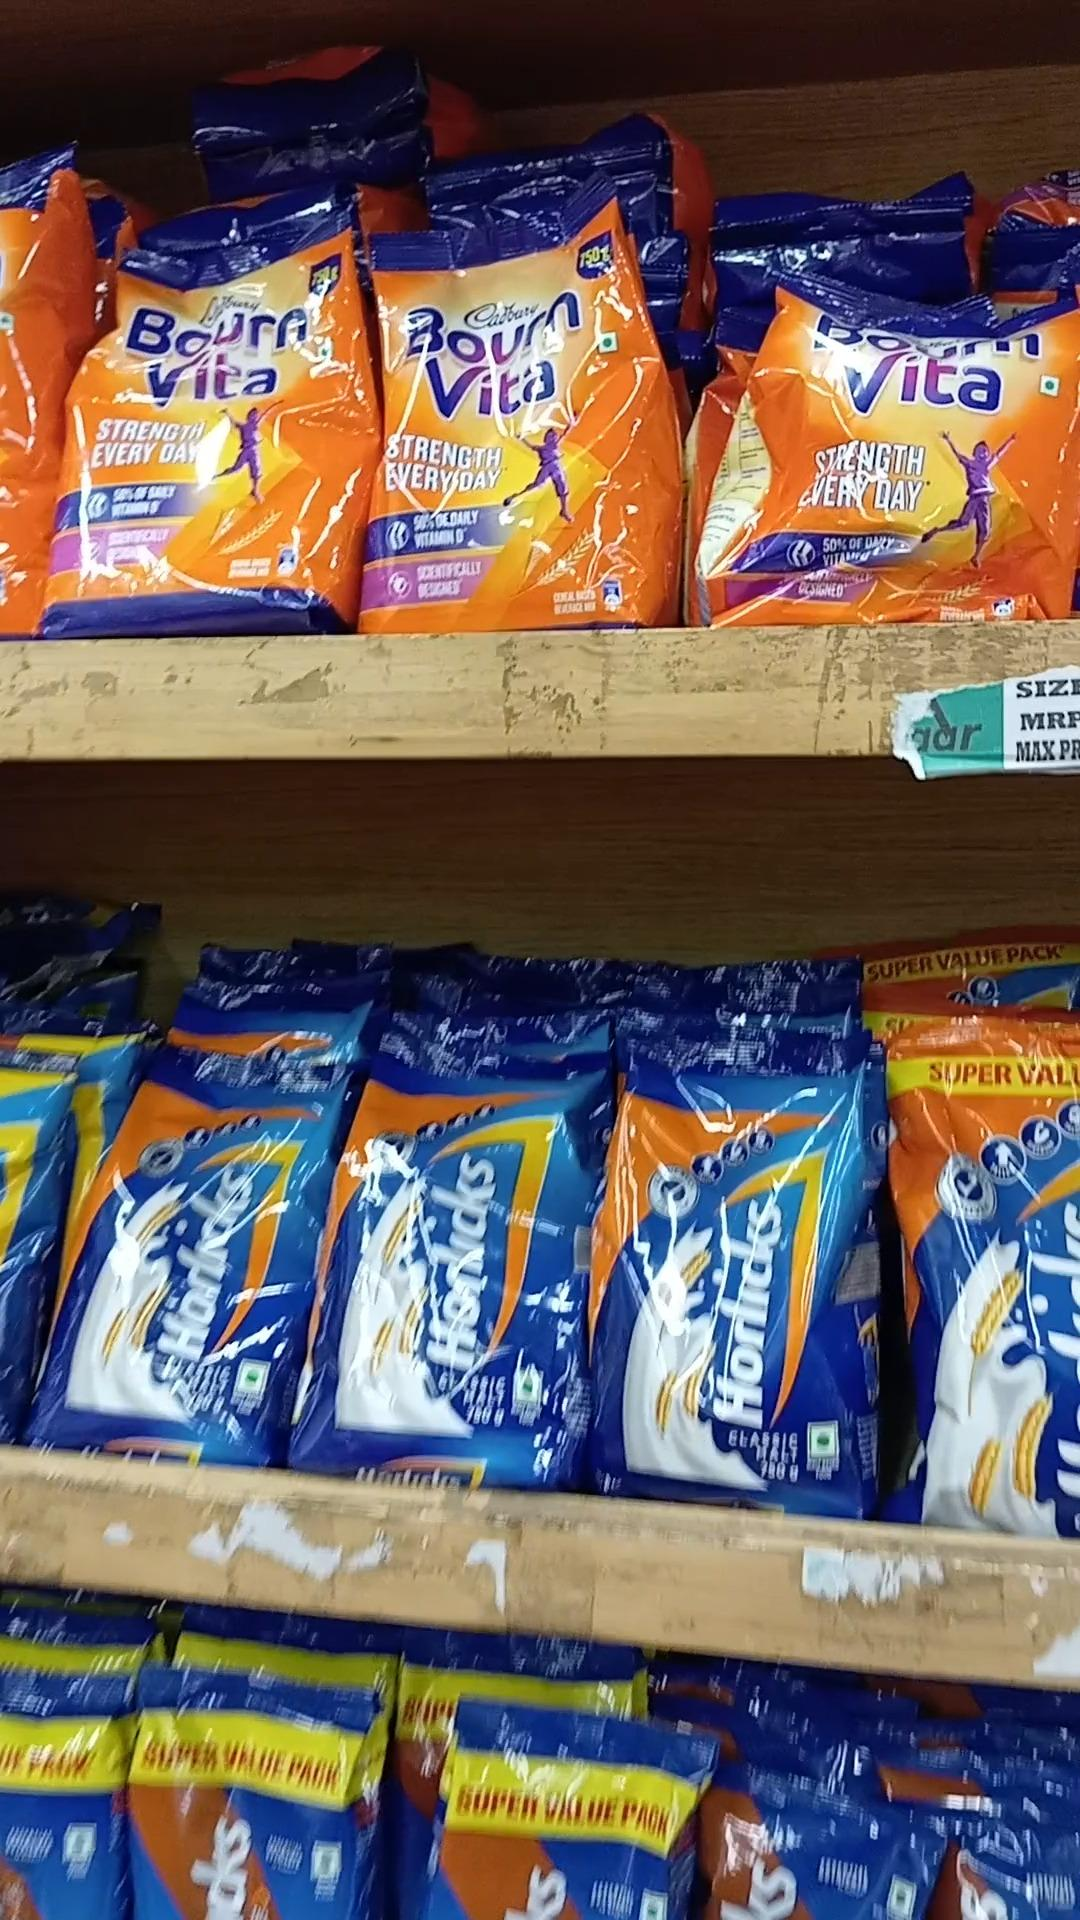BOURN_VITA_750_G_POUCH: (749, 260, 1069, 618), (385, 232, 667, 626), (78, 223, 339, 628)
HORLICK_CLASSIC_MALT_750_G_POUCH: (605, 1027, 870, 1505), (326, 1040, 563, 1494), (83, 1039, 273, 1468)
